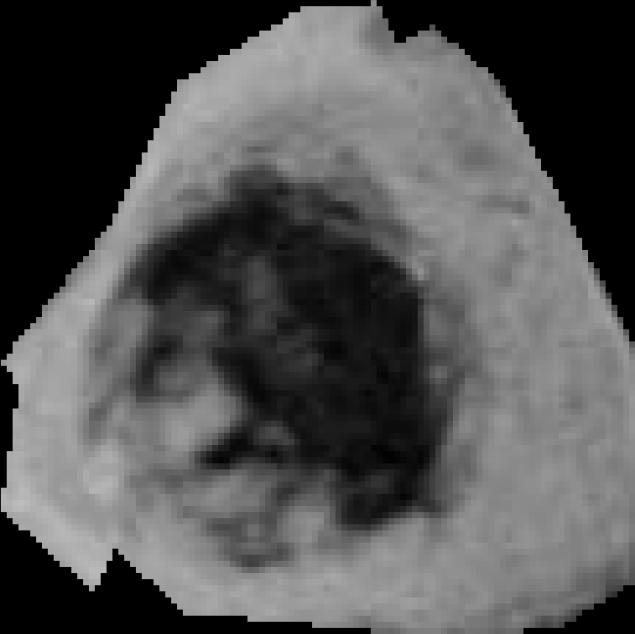tumor_moderate_chance: (1, 0, 635, 634)
